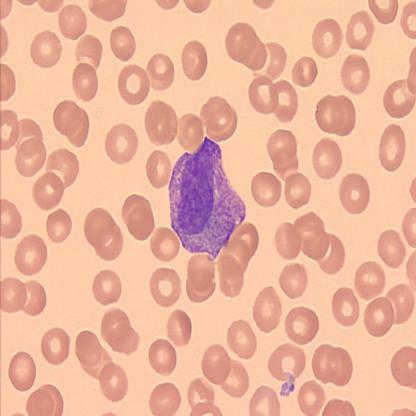Myelocyte: (171, 135, 247, 256)
